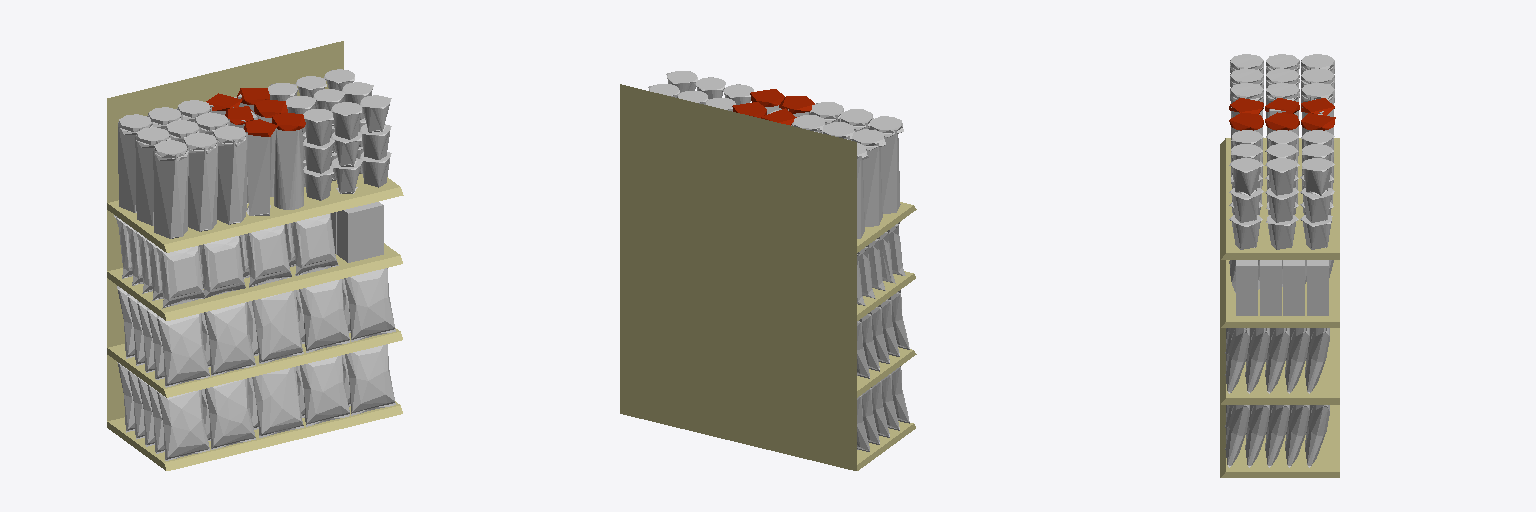
The model's file is EstanteAsiaEcoShop.obj.
3 views of the same model, side by side, from view 1: azimuth 30°, elevation 25°; view 2: azimuth 150°, elevation 25°; view 3: azimuth 270°, elevation 25° (orthographic).
Visible parts, largest first — view 1: Plane.003; view 2: Plane.003; view 3: Plane.003.
Boxes of the visible parts, x1=… form: Plane.003: x1=107, y1=41, x2=403, y2=470; Plane.003: x1=620, y1=71, x2=916, y2=470; Plane.003: x1=1220, y1=54, x2=1339, y2=477.
Bounding box in the file's own units: 5.87 × 7.77 × 2.54.